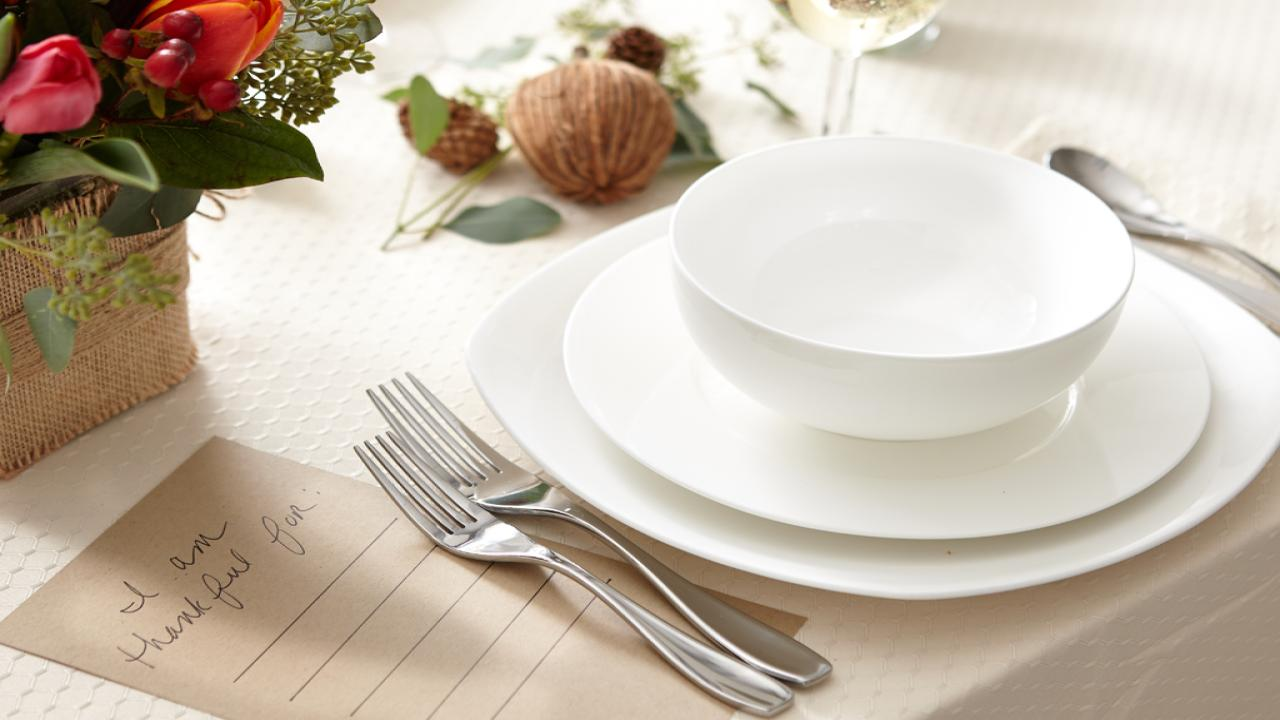fork: (368, 370, 842, 694), (349, 430, 799, 719)
